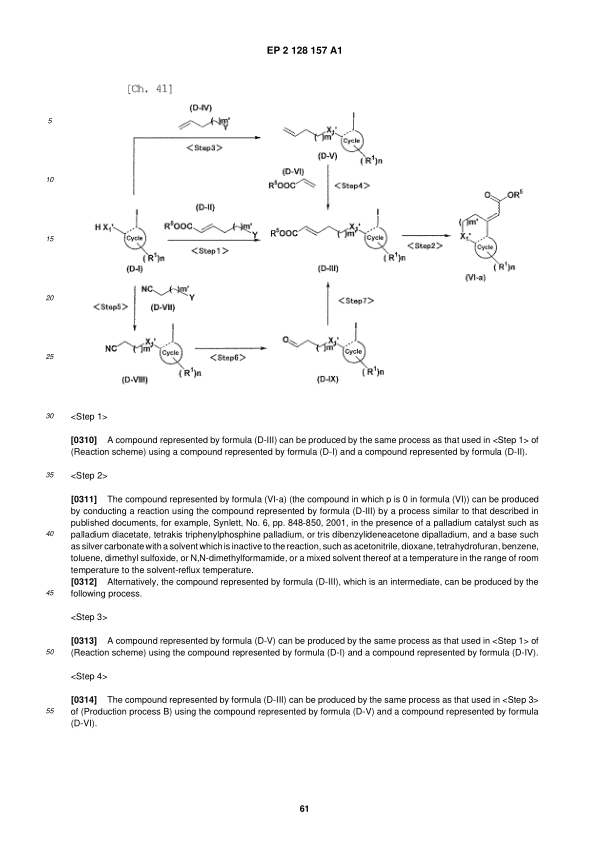compound-structure: (268, 96, 395, 163), (280, 323, 398, 391), (272, 205, 408, 263), (457, 185, 532, 277), (96, 329, 206, 390), (91, 211, 166, 272), (156, 202, 264, 239), (140, 278, 201, 312), (266, 163, 320, 198), (175, 102, 237, 132)
reaction: (53, 75, 539, 405)
reaction-arrow: (147, 197, 266, 253), (93, 278, 212, 332), (317, 277, 387, 320), (153, 134, 259, 152), (325, 168, 370, 210), (193, 340, 275, 361), (401, 224, 453, 257), (129, 136, 142, 204)
